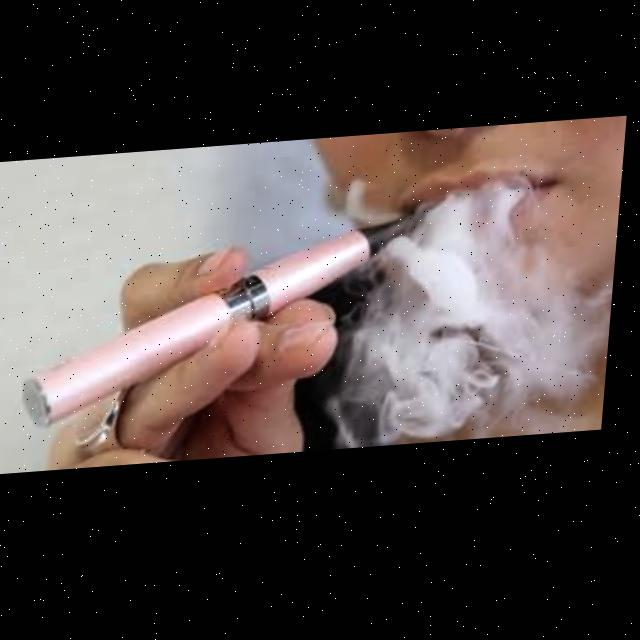vape: (28, 217, 423, 430)
